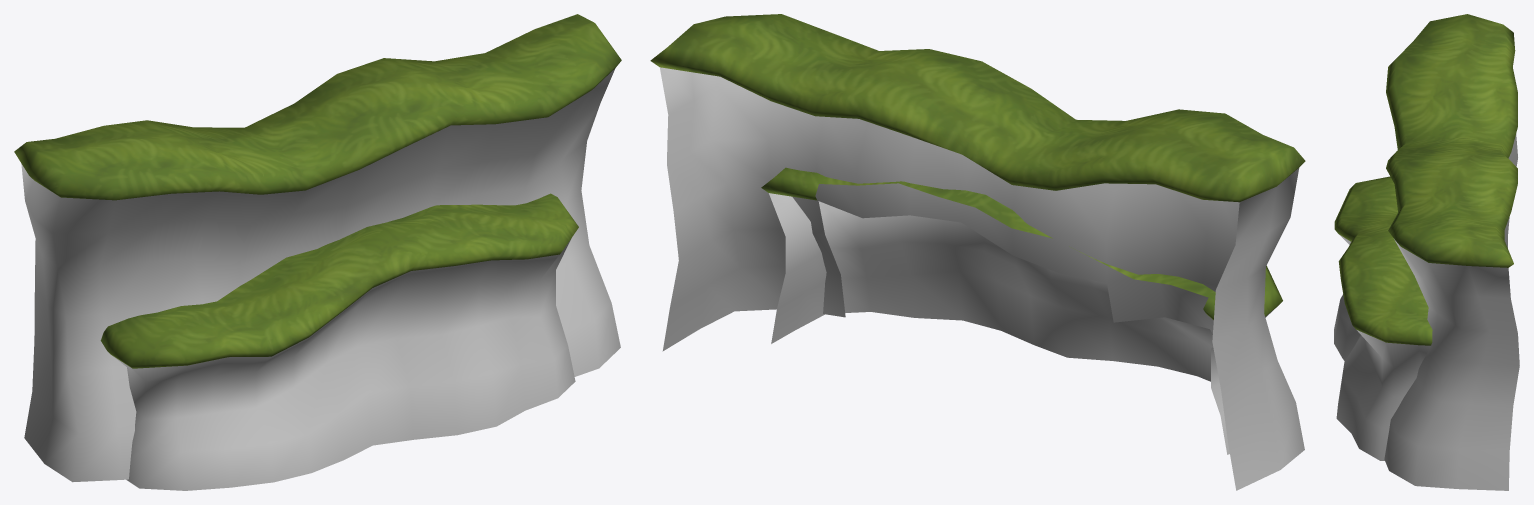
The model's file is cliffc.FBX.
3 views of the same model, side by side, from view 1: azimuth 30°, elevation 25°; view 2: azimuth 150°, elevation 25°; view 3: azimuth 270°, elevation 25° (orthographic). The views are drawn at different scales.
Visible parts, largest first — view 1: cliffc; view 2: cliffc; view 3: cliffc.
Part boxes in pixels (<box>): cliffc: <box>14,14,621,490</box>; cliffc: <box>650,14,1305,490</box>; cliffc: <box>1334,14,1519,490</box>.
Bounding box in the file's own units: 39.07 × 19.8 × 13.18.
